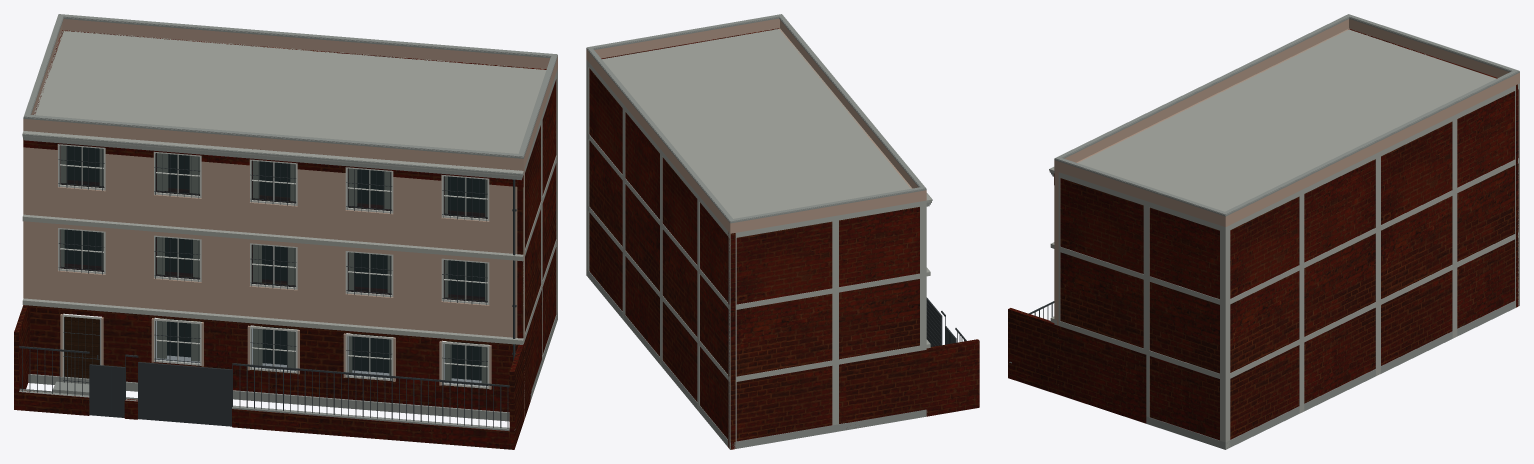
The model's file is building.glb.
3 views of the same model, side by side, from view 1: azimuth 30°, elevation 25°; view 2: azimuth 150°, elevation 25°; view 3: azimuth 270°, elevation 25° (orthographic). The views are drawn at different scales.
Parts seen in each view (by area): view 1: main:0/edge0/z0/main:0/edge0/z0/wall_1_0/core0, roof/main:0/roof_slab#0001, roof/main:0/parapet#0001, main:0/edge1/z0/main:0/edge1/z0/wall_0_0, main:0/edge0/z0/main:0/edge0/z0/coating_0_0_0/clip2, site/fence/0/garage_door#0001, site/fence/0/boundary_base#0003, roof/main:0/parapet_cap#0002, main:0/edge0/z0/floor_slab#0002, main:0/edge0/z0/floor_slab#0001, main:0/edge0/z0/plinth#0001, roof/main:0/parapet_cap#0001 (+50 smaller); view 2: roof/main:0/roof_slab#0001, main:0/edge3/z0/main:0/edge3/z0/wall_0_0/core0, main:0/edge2/z0/main:0/edge2/z0/wall_0_0/core0, site/fence/2/wall#0001, roof/main:0/parapet#0001, roof/main:0/parapet_cap#0002, roof/main:0/parapet_cap#0001, main:0/edge3/z0/plinth#0001, main:0/edge2/z0/main:0/edge2/z0/wall_0_0/clip1, main:0/edge2/z0/plinth#0001, main:0/edge3/z0/main:0/edge3/z0/beam_1_0/core0, main:0/edge3/z0/main:0/edge3/z0/beam_0_0/core0 (+10 smaller); view 3: main:0/edge2/z0/main:0/edge2/z0/wall_0_0/core0, roof/main:0/roof_slab#0001, main:0/edge1/z0/main:0/edge1/z0/wall_0_0, site/fence/1/wall#0001, roof/main:0/parapet#0001, roof/main:0/parapet_cap#0002, main:0/edge2/z0/plinth#0001, roof/main:0/parapet_cap#0001, main:0/edge2/z0/main:0/edge2/z0/beam_1_0/core0, main:0/edge2/z0/main:0/edge2/z0/beam_0_0/core0, main:0/edge2/z0/main:0/edge2/z0/beam_2_0/core0, main:0/edge1/z0/main:0/edge1/z0/beam_0_0 (+5 smaller).
Part boxes in pixels (x1,y1,x2,y2): main:0/edge0/z0/main:0/edge0/z0/wall_1_0/core0: (23,144,517,337); roof/main:0/roof_slab#0001: (34,30,557,171); roof/main:0/parapet#0001: (23,19,557,170); main:0/edge1/z0/main:0/edge1/z0/wall_0_0: (517,79,556,354); main:0/edge0/z0/main:0/edge0/z0/coating_0_0_0/clip2: (103,357,509,412); site/fence/0/garage_door#0001: (138,362,232,426); site/fence/0/boundary_base#0003: (232,409,514,449); roof/main:0/parapet_cap#0002: (24,14,557,156); main:0/edge0/z0/floor_slab#0002: (22,214,523,261); main:0/edge0/z0/floor_slab#0001: (22,298,523,344); main:0/edge0/z0/plinth#0001: (28,374,509,421); roof/main:0/parapet_cap#0001: (23,14,557,158); roof/main:0/roof_slab#0001: (586,28,925,227); main:0/edge3/z0/main:0/edge3/z0/wall_0_0/core0: (736,207,919,441); main:0/edge2/z0/main:0/edge2/z0/wall_0_0/core0: (589,68,727,438); site/fence/2/wall#0001: (846,339,979,422); roof/main:0/parapet#0001: (586,18,926,233); roof/main:0/parapet_cap#0002: (587,14,926,221); roof/main:0/parapet_cap#0001: (586,17,926,223); main:0/edge3/z0/plinth#0001: (732,409,926,448); main:0/edge2/z0/main:0/edge2/z0/wall_0_0/clip1: (730,233,735,449); main:0/edge2/z0/plinth#0001: (586,269,730,449); main:0/edge3/z0/main:0/edge3/z0/beam_1_0/core0: (730,272,926,309); main:0/edge3/z0/main:0/edge3/z0/beam_0_0/core0: (735,345,926,381); main:0/edge2/z0/main:0/edge2/z0/wall_0_0/core0: (1230,91,1514,439); roof/main:0/roof_slab#0001: (1059,29,1496,229); main:0/edge1/z0/main:0/edge1/z0/wall_0_0: (1060,178,1219,440); site/fence/1/wall#0001: (1008,308,1146,423); roof/main:0/parapet#0001: (1054,19,1519,226); roof/main:0/parapet_cap#0002: (1054,14,1518,214); main:0/edge2/z0/plinth#0001: (1226,301,1515,448); roof/main:0/parapet_cap#0001: (1054,17,1519,216); main:0/edge2/z0/main:0/edge2/z0/beam_1_0/core0: (1225,157,1519,306); main:0/edge2/z0/main:0/edge2/z0/beam_0_0/core0: (1225,232,1519,380); main:0/edge2/z0/main:0/edge2/z0/beam_2_0/core0: (1225,83,1519,231); main:0/edge1/z0/main:0/edge1/z0/beam_0_0: (1054,319,1225,380).
Bounding box in the file's own units: 17.5 × 8.99 × 17.5.
10 materials, 2 textured.
